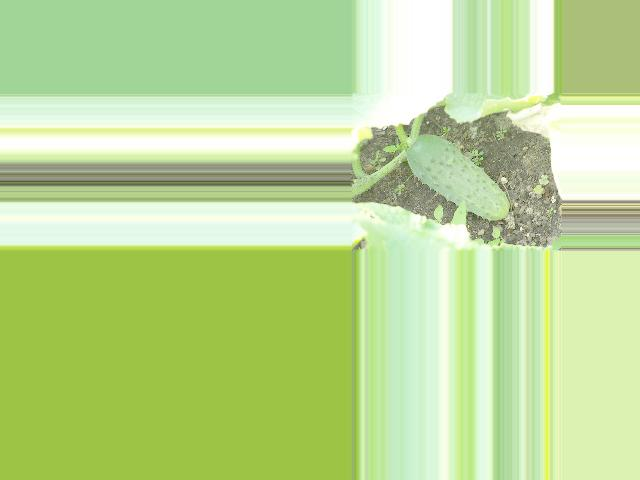cucumber: (405, 134, 509, 220)
